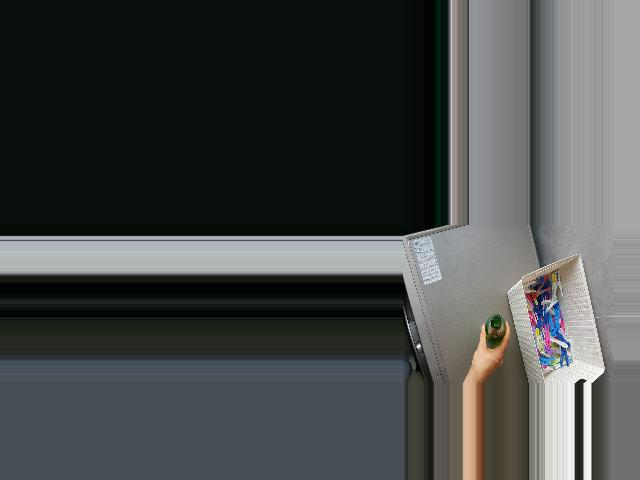beer: (484, 314, 505, 344)
